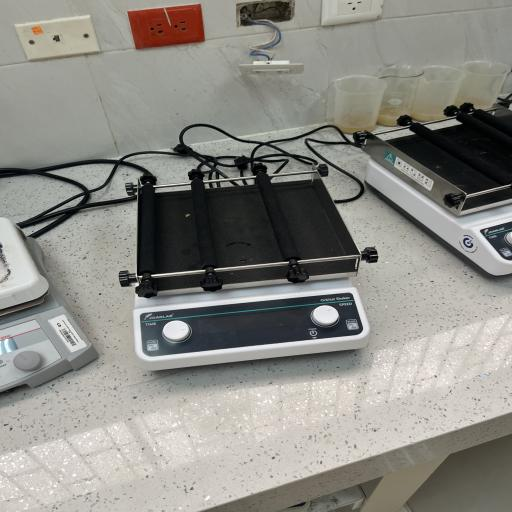Agitador_Orbital_DLAB: (101, 164, 403, 378)
